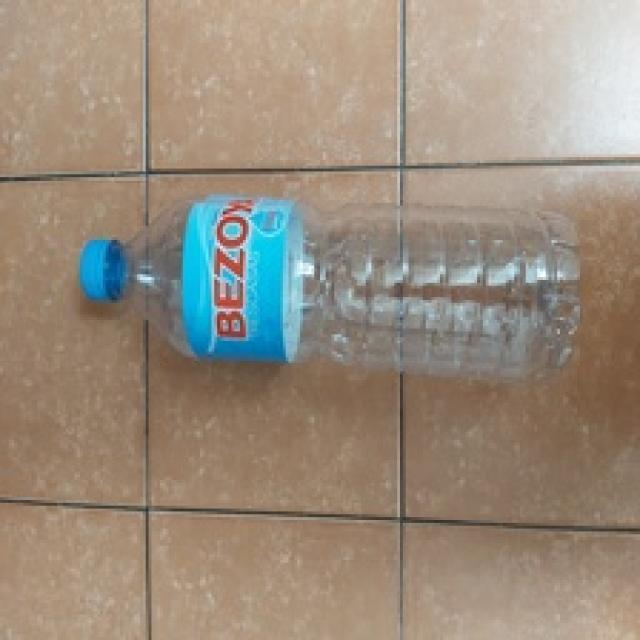Plastic: (81, 188, 583, 376)
